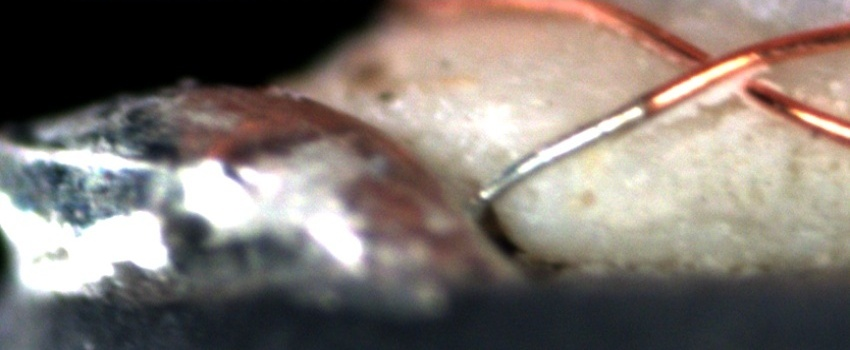CL: (664, 27, 791, 115)
TS: (471, 100, 646, 214)
